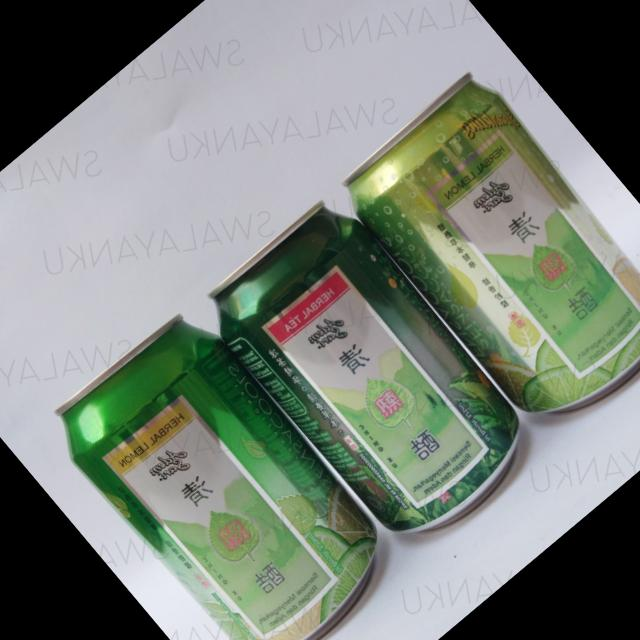ademsarikaleng: (192, 186, 550, 563), (38, 295, 411, 640), (330, 63, 640, 446)
